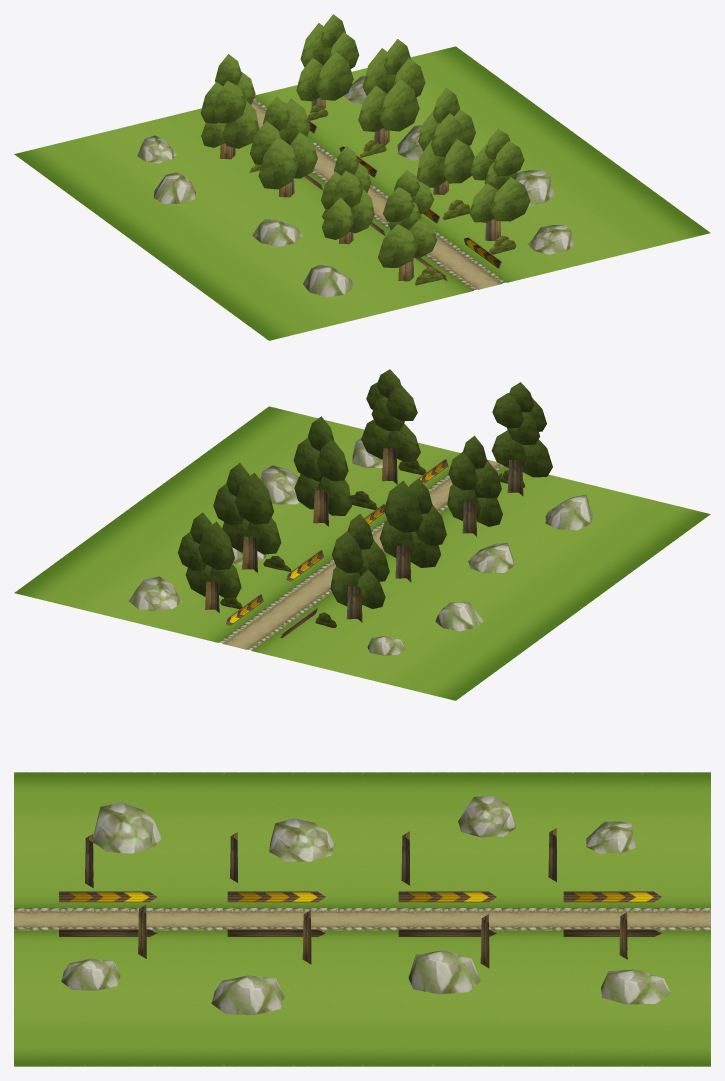
Rendered from ForestRoad01.FBX.
The picture shows the model from 3 angles, top to bottom: view 1: azimuth 30°, elevation 25°; view 2: azimuth 150°, elevation 25°; view 3: azimuth 270°, elevation 25°; orthographic projection. The views are drawn at different scales.
Parts seen in each view (by area): view 1: Road (×2), Tree (×8), Stone (×7); view 2: Road (×2), Tree (×8), Stone (×7); view 3: Road (×2), Stone (×8), Fence (×8).
Boxes of the visible parts, <box> form: Road (×2): <box>14,46,710,340</box>; Tree (×8): <box>200,14,530,281</box>; Stone (×7): <box>137,125,574,297</box>; Road (×2): <box>14,406,710,700</box>; Tree (×8): <box>177,369,552,622</box>; Stone (×7): <box>129,438,592,655</box>; Road (×2): <box>14,772,710,1066</box>; Stone (×8): <box>61,796,670,1015</box>; Fence (×8): <box>59,891,661,936</box>.
Bounding box in the file's own units: 10000 × 2536 × 10000.
